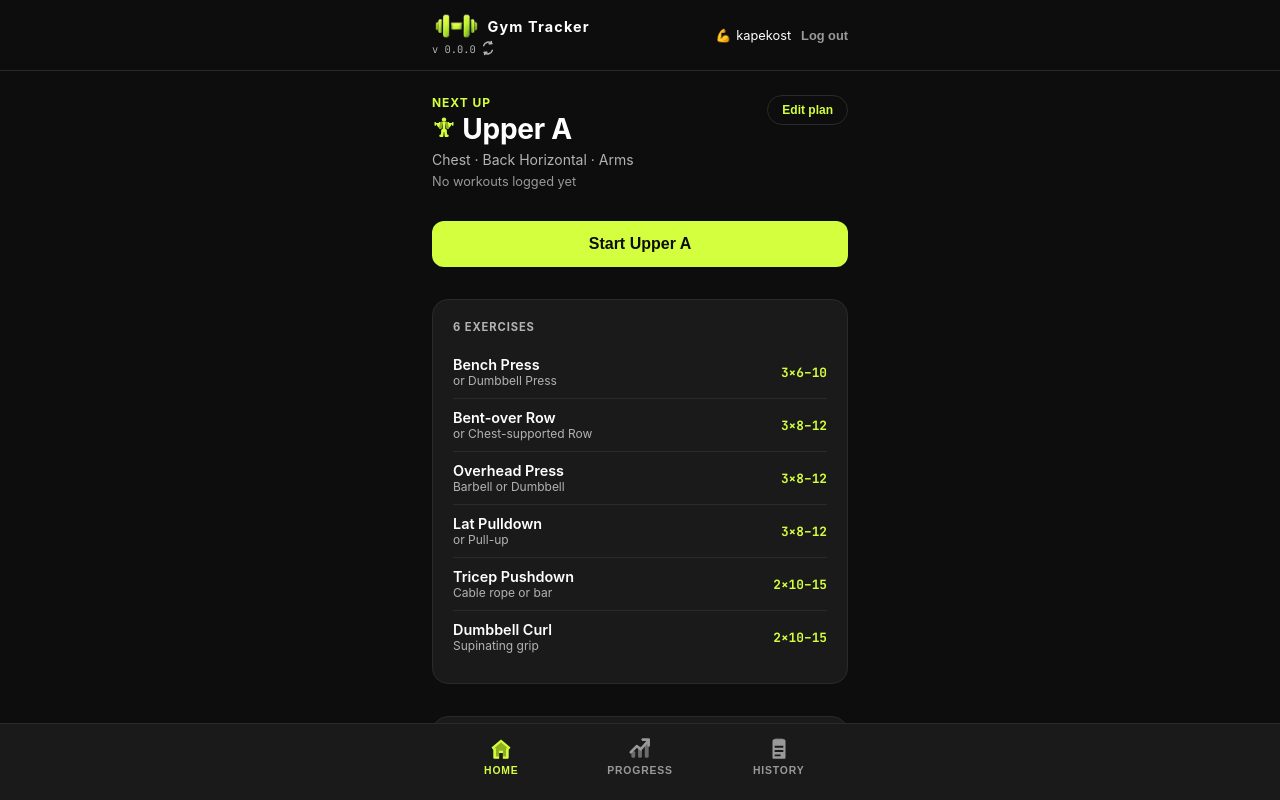
Test: a session that ends mid-use › logging out lands on the door as well
The image size is (1280, 800).
expect the text "Next up" is shown: met, box left=432, top=95, right=491, bottom=110
Click the button "Log out" at (825,35), box left=801, top=28, right=848, bottom=43
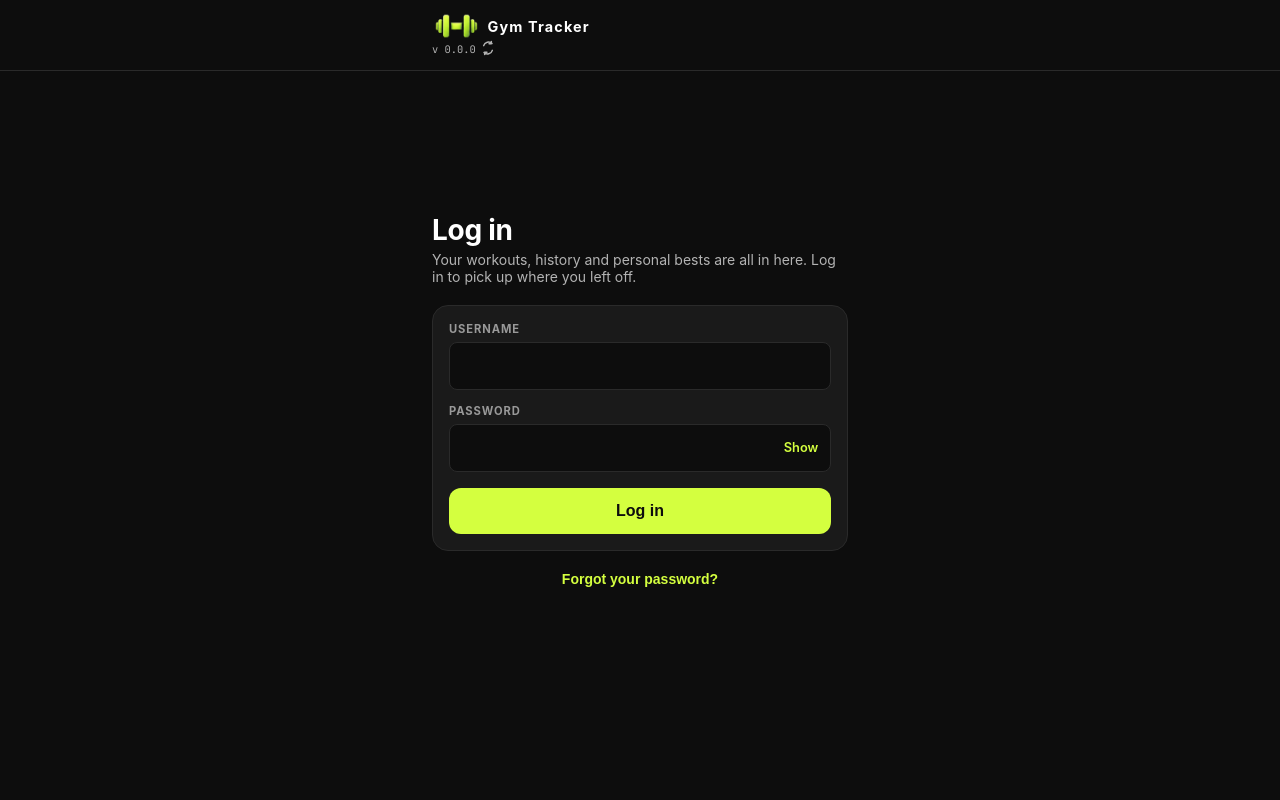
expect the field labelled "Username" is shown: met, box left=449, top=342, right=831, bottom=390
